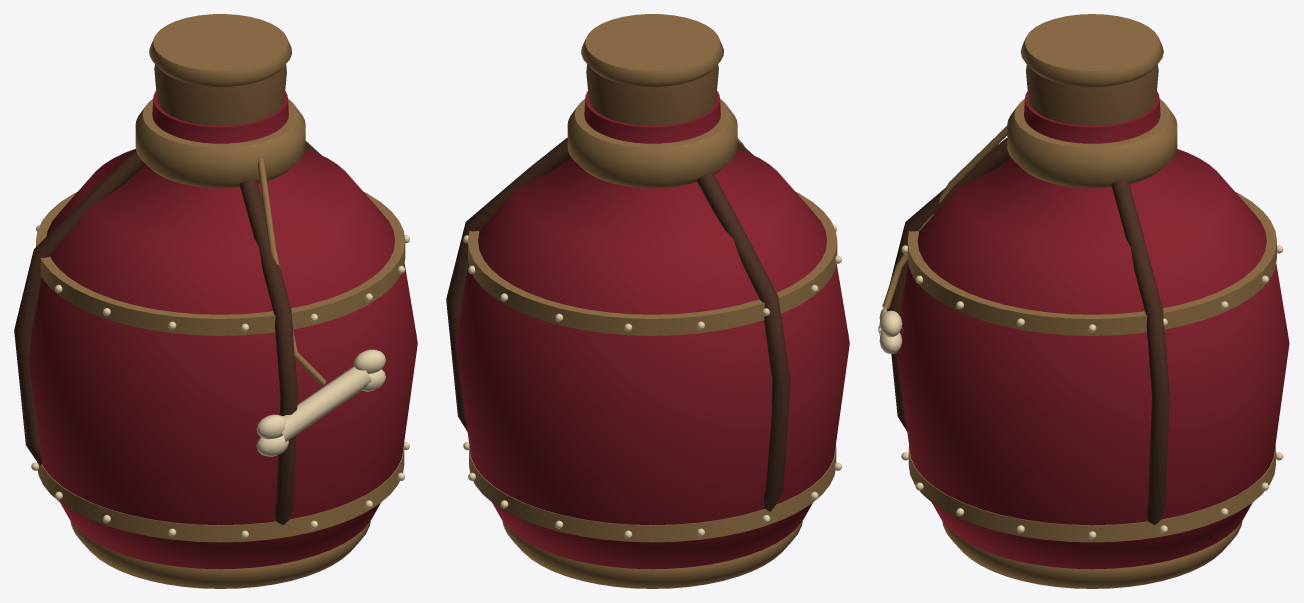
Rendered from HealingPotion.fbx.
3 views of the same model, side by side, from view 1: azimuth 30°, elevation 25°; view 2: azimuth 150°, elevation 25°; view 3: azimuth 270°, elevation 25° (orthographic).
Visible parts, largest first — view 1: HealingPotion_Mesh; view 2: HealingPotion_Mesh; view 3: HealingPotion_Mesh.
Part boxes in pixels (x1,y1,x2,y2): HealingPotion_Mesh: (14, 14, 417, 588); HealingPotion_Mesh: (446, 14, 849, 588); HealingPotion_Mesh: (878, 14, 1289, 588).
Size of the model in its own units: 38 by 53 by 39.6.
